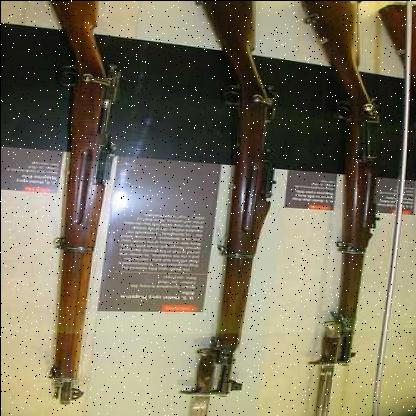rifle: (157, 1, 271, 416), (22, 1, 103, 416), (304, 1, 386, 372)
